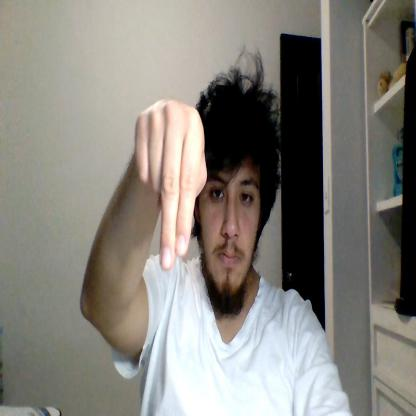N: (134, 99, 207, 270)
